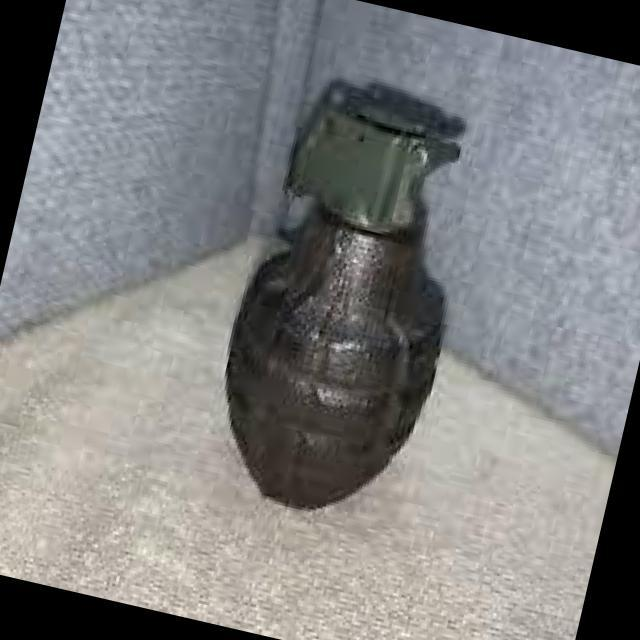grenade: (226, 76, 470, 509)
